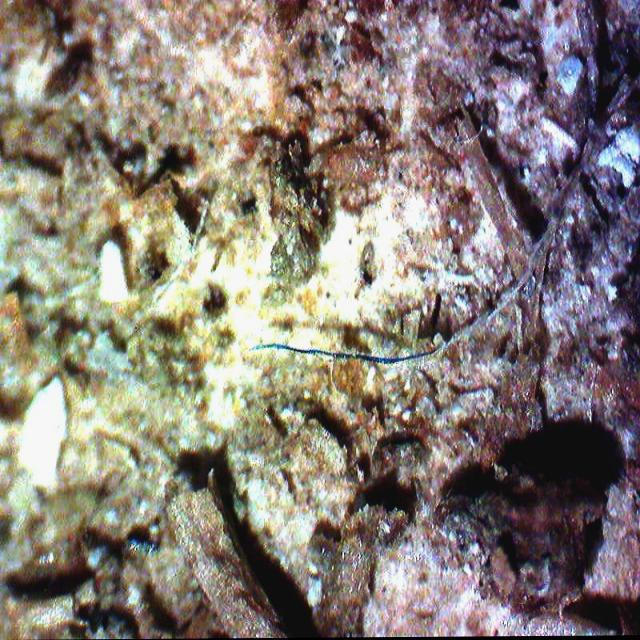microplastic: (252, 343, 438, 367)
